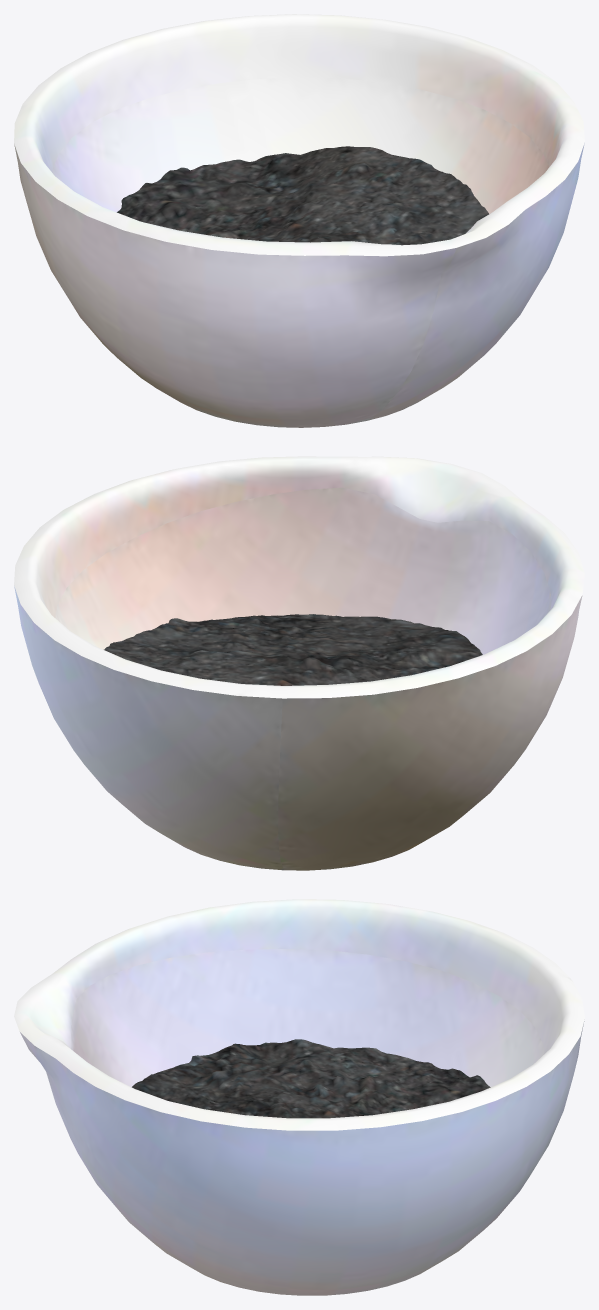
File: mortar_with_sample_1.glb
The picture shows the model from 3 angles, top to bottom: view 1: azimuth 30°, elevation 25°; view 2: azimuth 150°, elevation 25°; view 3: azimuth 270°, elevation 25°; orthographic projection. The views are drawn at different scales.
Parts seen in each view (by area): view 1: mortar, Probe_grob_2; view 2: mortar, Probe_grob_2; view 3: mortar, Probe_grob_2.
Boxes of the visible parts, box(x1,y1,x2,y2) form: mortar: box(14, 14, 584, 427); Probe_grob_2: box(117, 146, 488, 245); mortar: box(14, 456, 584, 870); Probe_grob_2: box(104, 614, 482, 685); mortar: box(14, 899, 584, 1295); Probe_grob_2: box(132, 1039, 490, 1118).
Bounding box in the file's own units: 0.0704 × 0.0321 × 0.0735.
2 materials, 2 textured.
